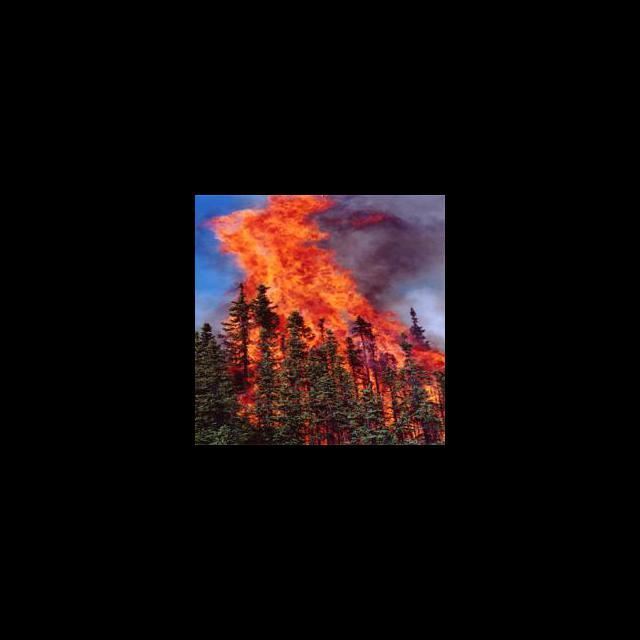Fire: (203, 197, 444, 443)
